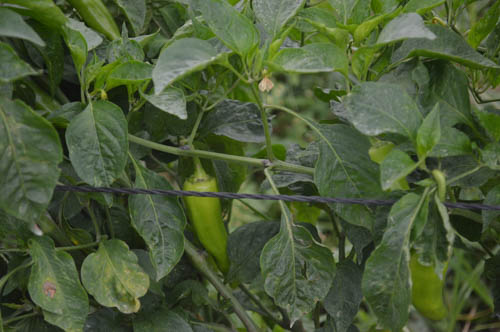ChiliPepper: (179, 177, 226, 272), (407, 248, 447, 321)
